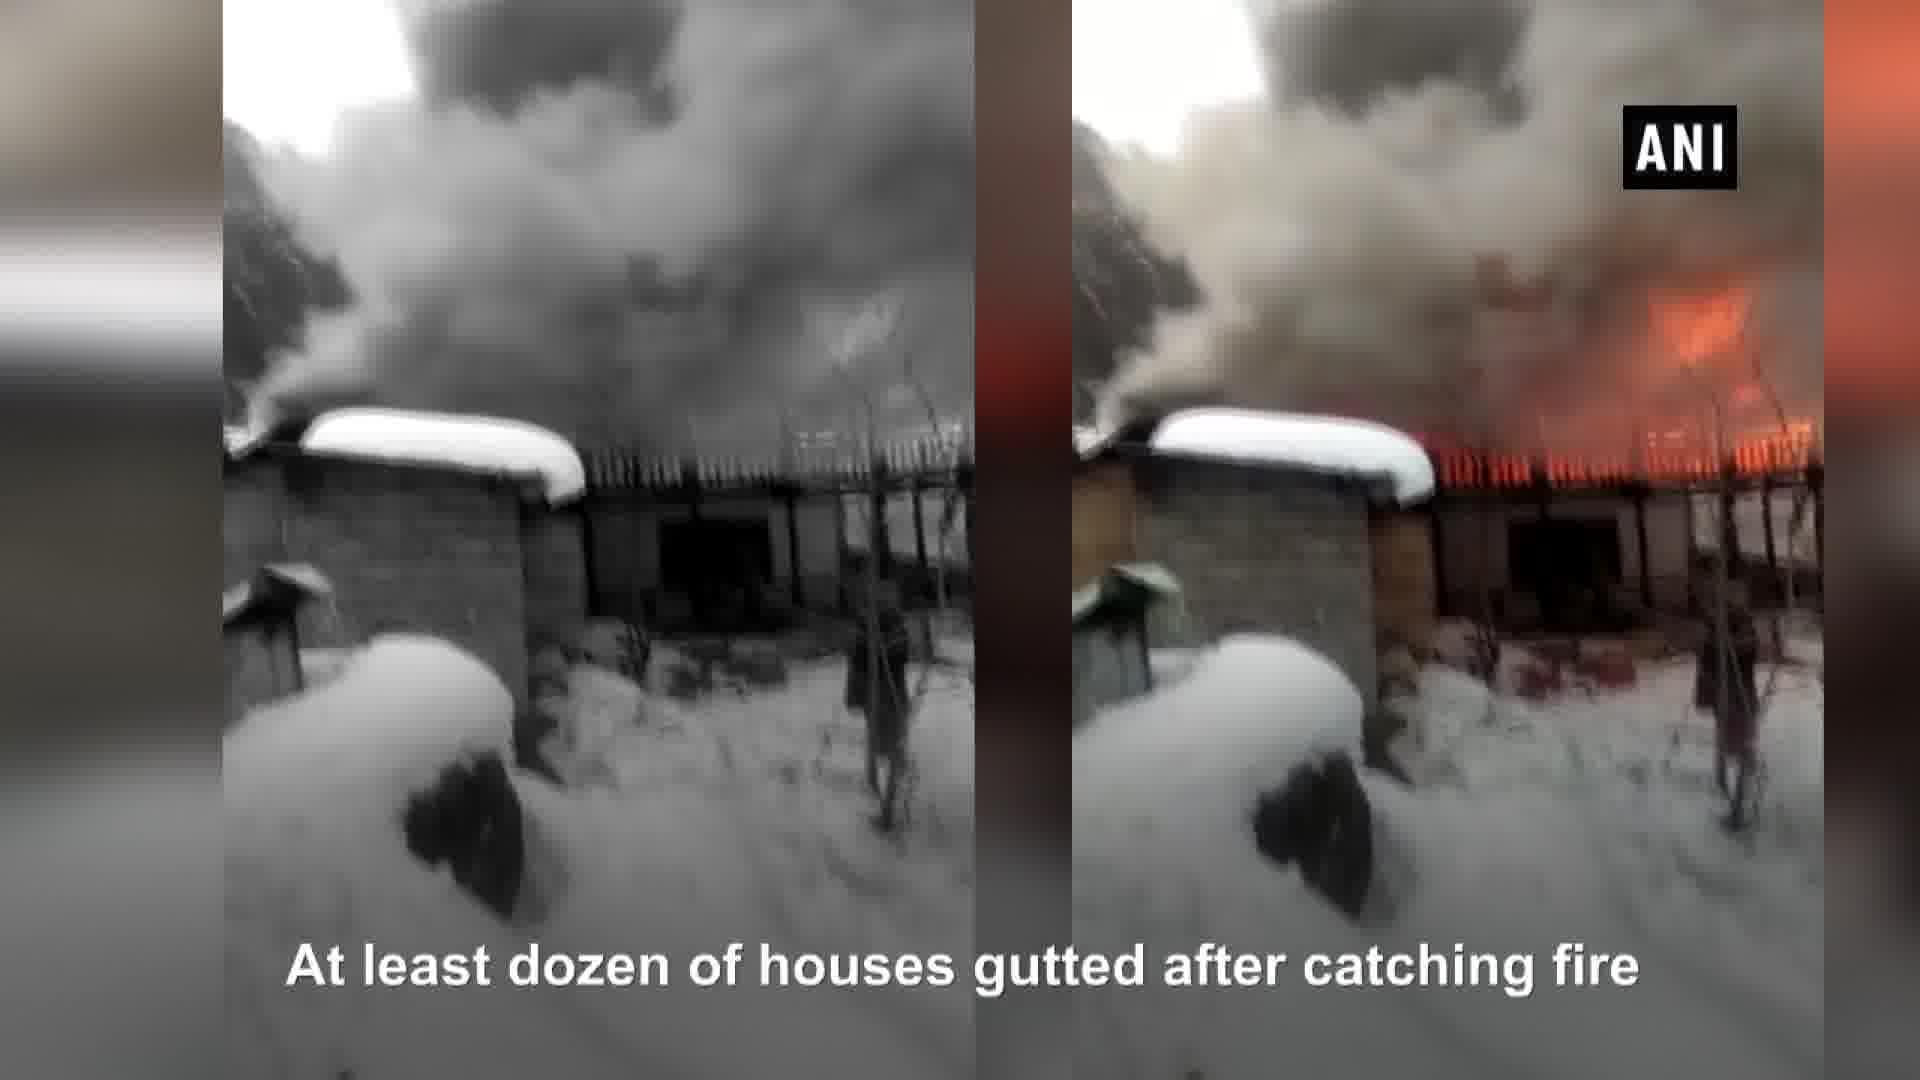smoke: (255, 0, 993, 496), (1071, 0, 1803, 499), (314, 0, 984, 270)
